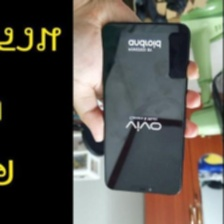phone: (96, 19, 193, 199)
